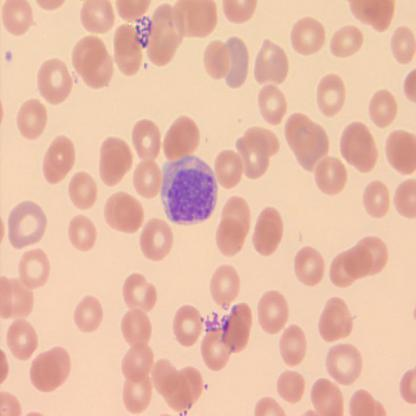Myelocyte: (166, 156, 219, 224)
